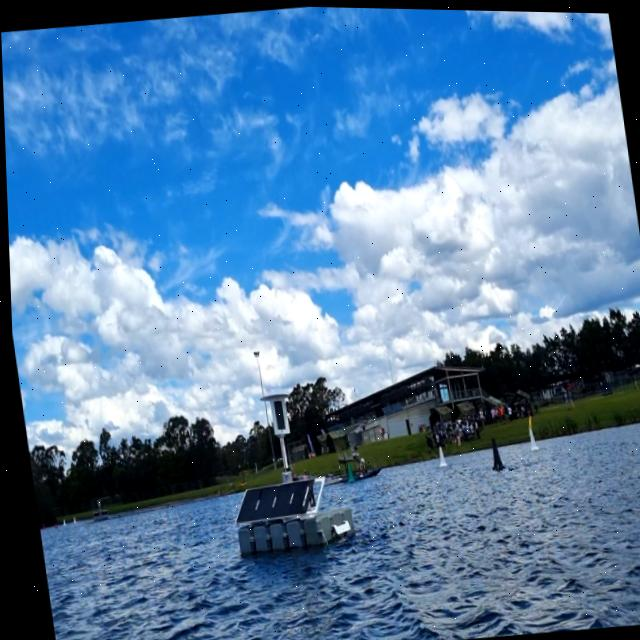led: (268, 396, 285, 431)
